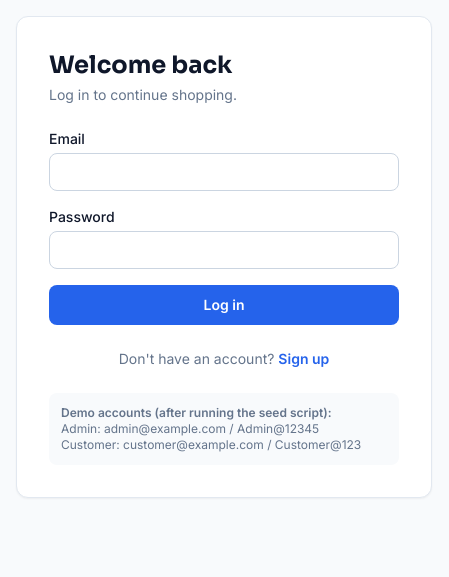
Test case: Login page › shows an error message on invalid credentials
In the field labelled "Email": (224, 172) [49, 153, 399, 191], type "wrong@example.com"
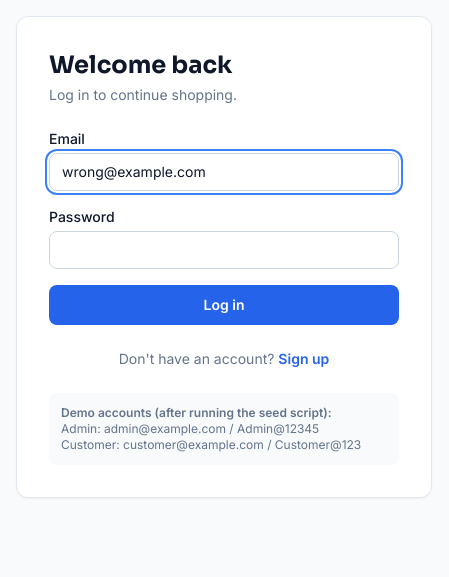
In the password field labelled "Password": (224, 250) [49, 231, 399, 269], type "WrongPassword"
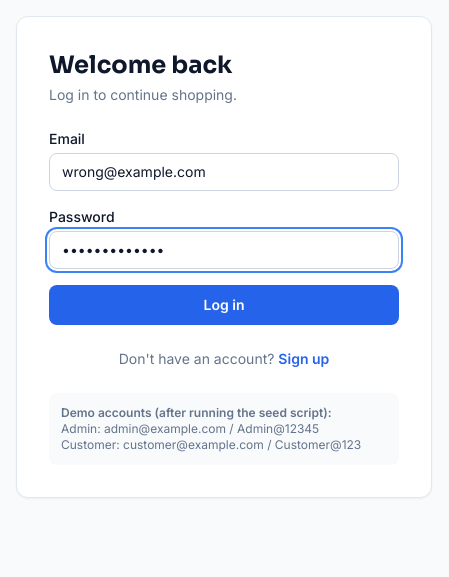
Click the button "Log in": (224, 305) [49, 285, 399, 325]
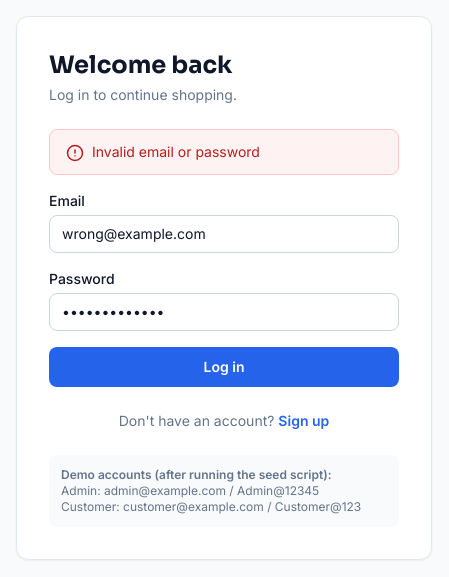
Expected: the message reads "Invalid email or password", [92, 143, 260, 160]
